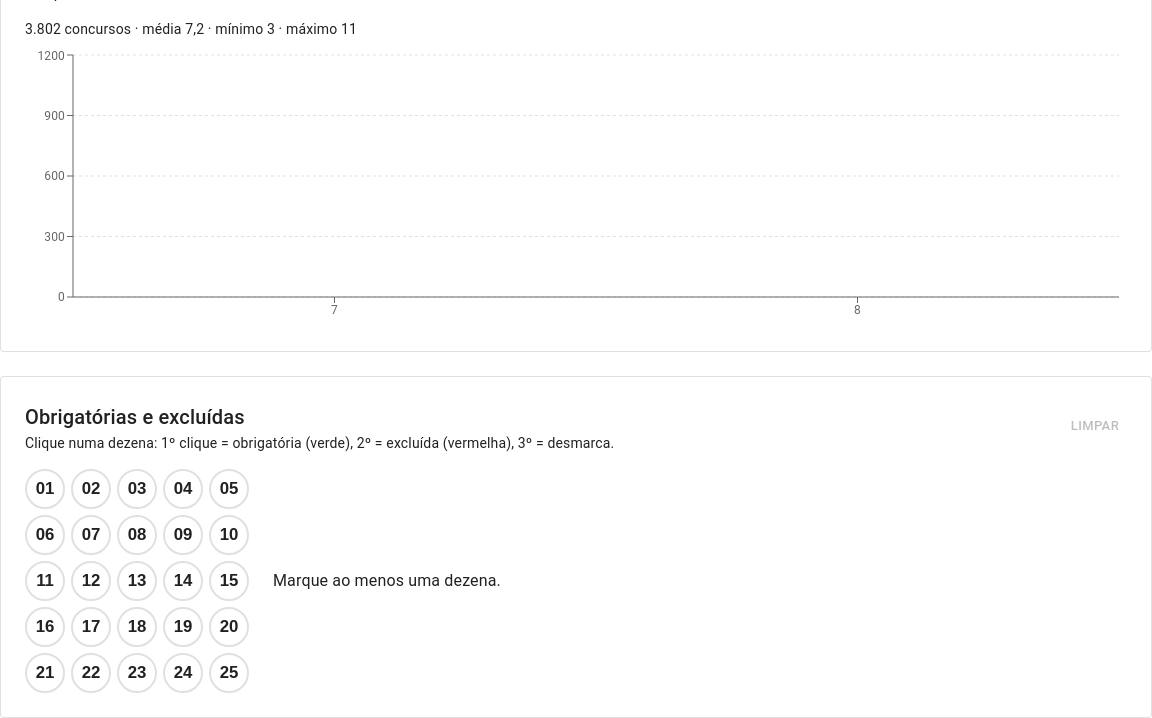
Test case: Página de estatísticas › volante consulta obrigatórias e excluídas
(page scrolled)
Expected: the text "Marque ao menos uma dezena." is shown, [273, 569, 501, 593]
Click the button named "dezena 07" at [91, 535], box [71, 515, 111, 555]
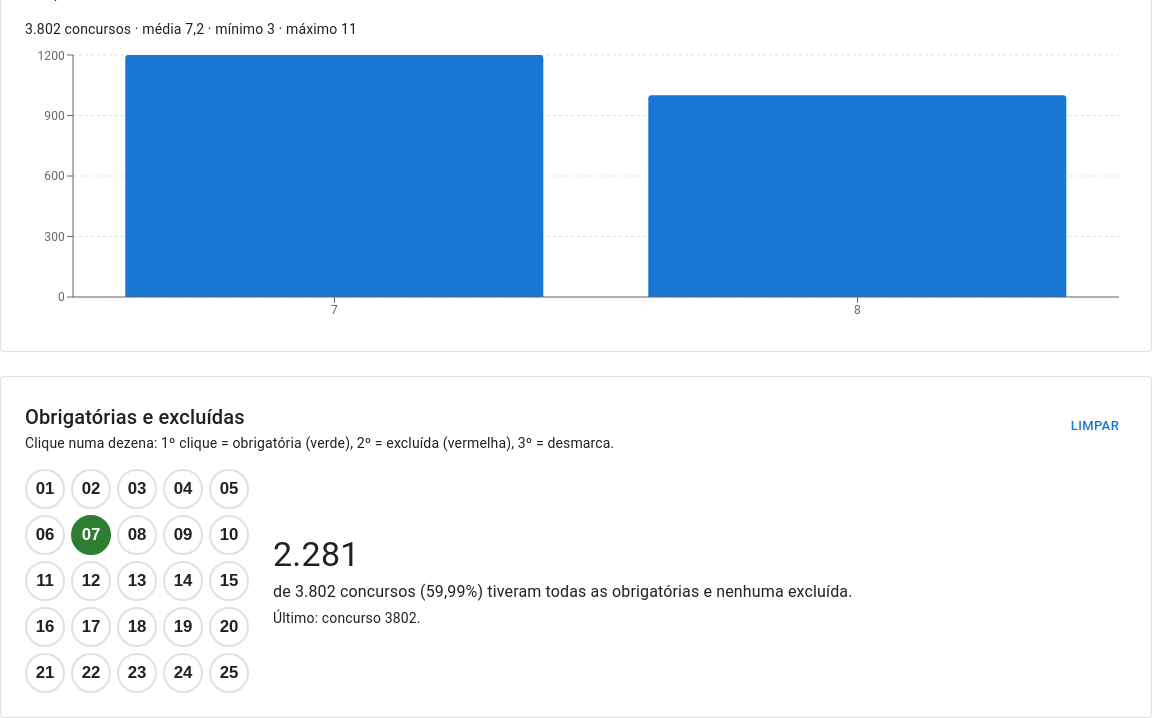
Expected: the text "2.281" is shown, [273, 534, 360, 574]
Click the button named "dezena 07" at [91, 535], box [71, 515, 111, 555]
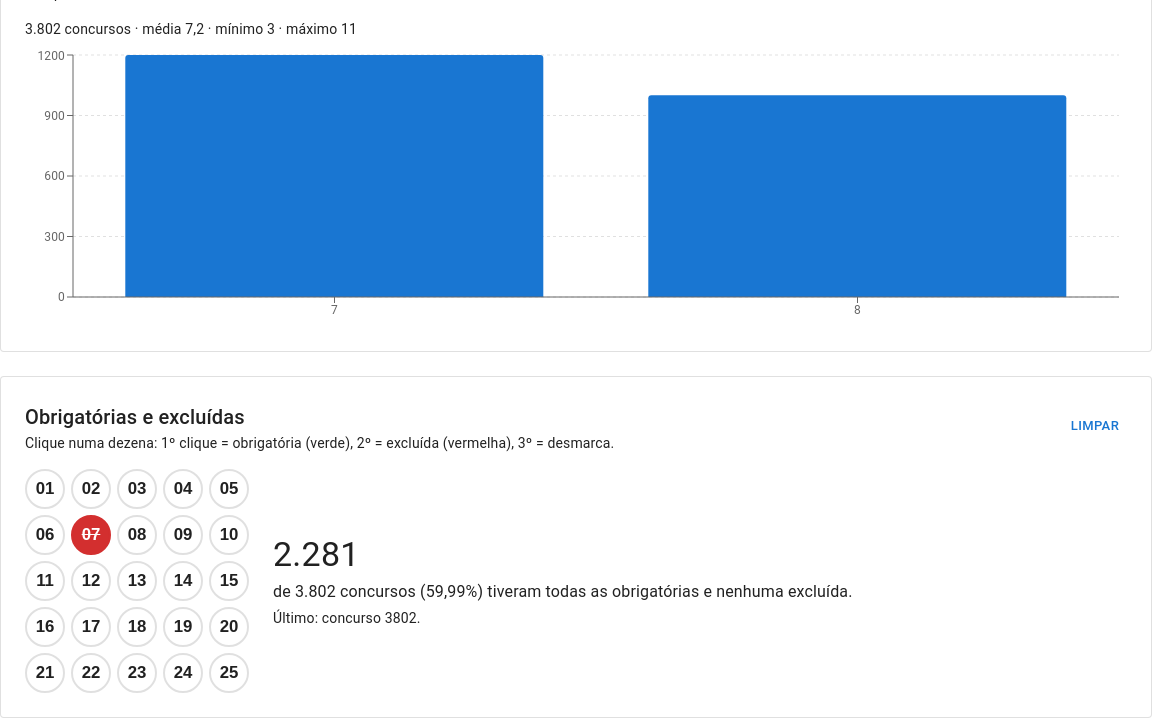
Click the button "Limpar" at [1095, 427], box [1063, 412, 1127, 442]
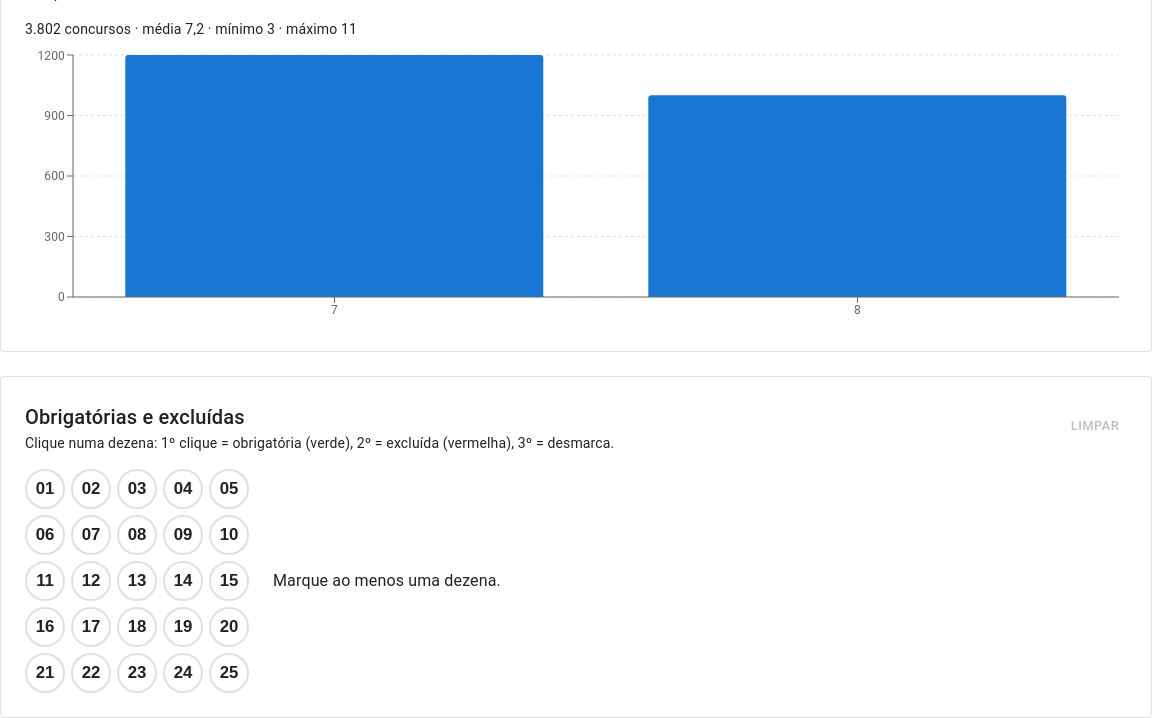
Expected: the text "Marque ao menos uma dezena." is shown, [273, 569, 501, 593]
